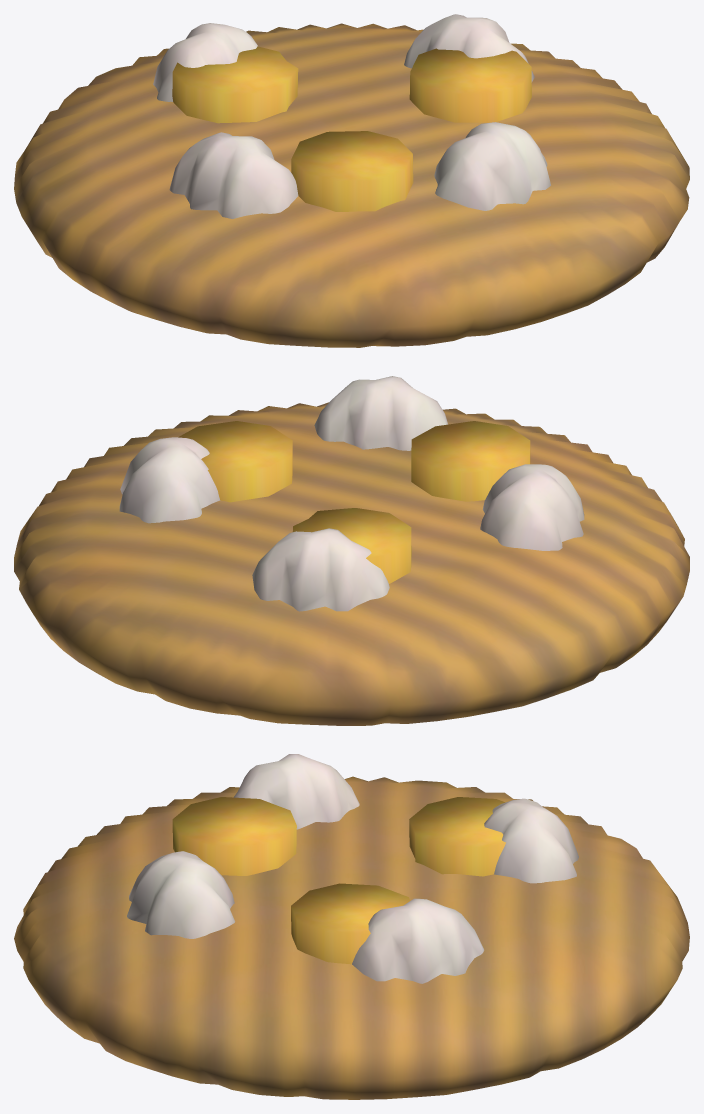
The model's file is dim-sum-platter-ultralight.glb.
3 views of the same model, one above another, from view 1: azimuth 30°, elevation 25°; view 2: azimuth 150°, elevation 25°; view 3: azimuth 270°, elevation 25° (orthographic).
Visible parts, largest first — view 1: Mesh_Bamboo_Steamer_Basket, Mesh_Fluted_Golden_Siu_Mai, Mesh_Pleated_Crystal_Har_Gow; view 2: Mesh_Bamboo_Steamer_Basket, Mesh_Pleated_Crystal_Har_Gow, Mesh_Fluted_Golden_Siu_Mai; view 3: Mesh_Bamboo_Steamer_Basket, Mesh_Pleated_Crystal_Har_Gow, Mesh_Fluted_Golden_Siu_Mai.
Part boxes in pixels (bbox=[...]): Mesh_Bamboo_Steamer_Basket: bbox=[14, 23, 689, 347]; Mesh_Fluted_Golden_Siu_Mai: bbox=[172, 46, 531, 211]; Mesh_Pleated_Crystal_Har_Gow: bbox=[153, 14, 550, 218]; Mesh_Bamboo_Steamer_Basket: bbox=[14, 402, 689, 725]; Mesh_Pleated_Crystal_Har_Gow: bbox=[119, 376, 584, 611]; Mesh_Fluted_Golden_Siu_Mai: bbox=[178, 421, 530, 583]; Mesh_Bamboo_Steamer_Basket: bbox=[14, 776, 689, 1099]; Mesh_Pleated_Crystal_Har_Gow: bbox=[127, 754, 578, 983]; Mesh_Fluted_Golden_Siu_Mai: bbox=[172, 797, 505, 964].
Bounding box in the file's own units: 2.2 × 0.6501 × 2.2.
4 materials, 4 textured.
